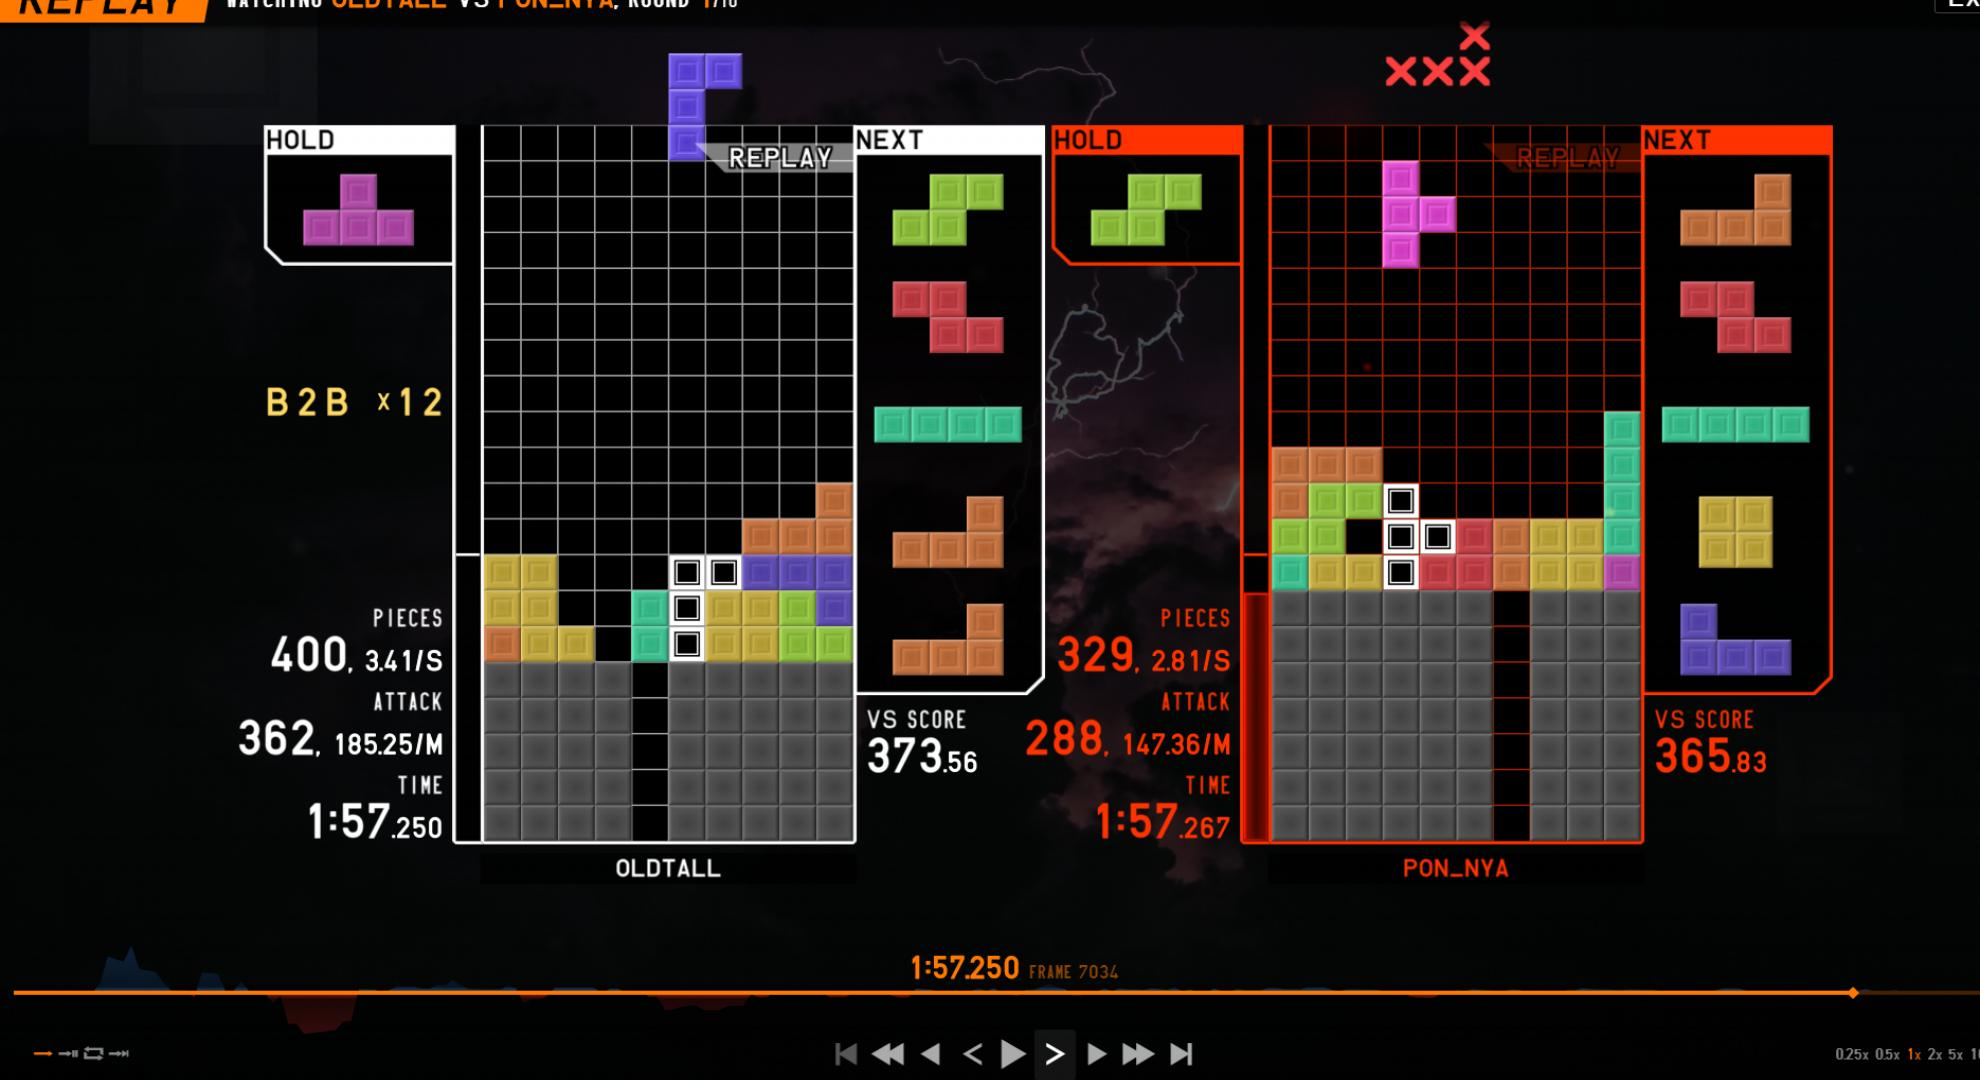tspin: (1343, 480, 1457, 592)
